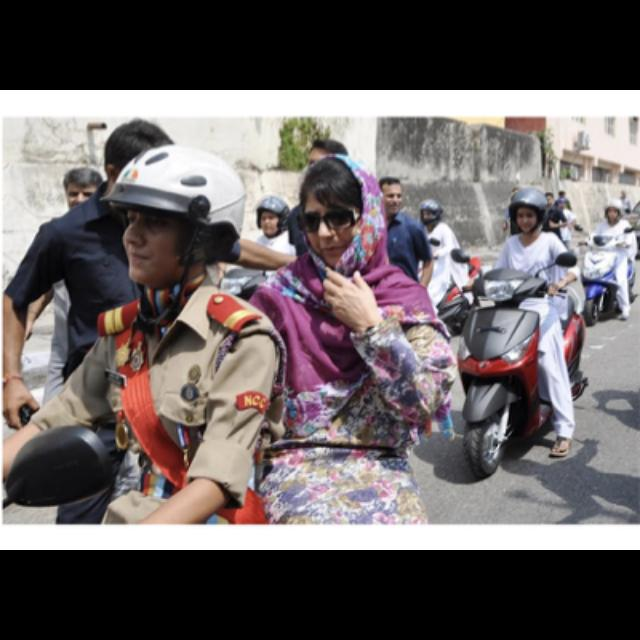With Helmet: (112, 140, 248, 292), (502, 181, 548, 239)
